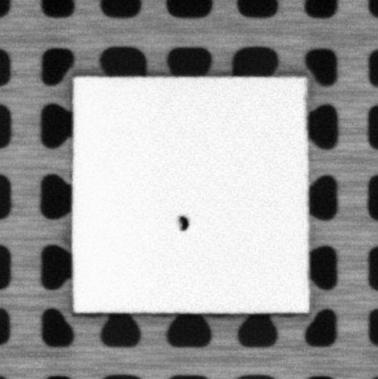DIE_INK: (176, 213, 190, 234)
